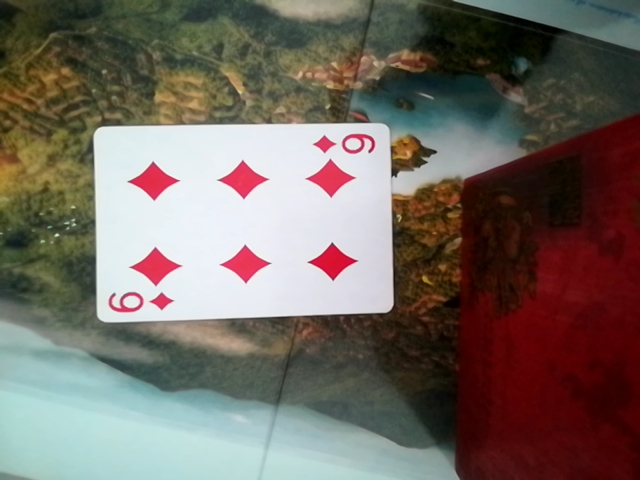fk 6: (86, 123, 398, 327)
